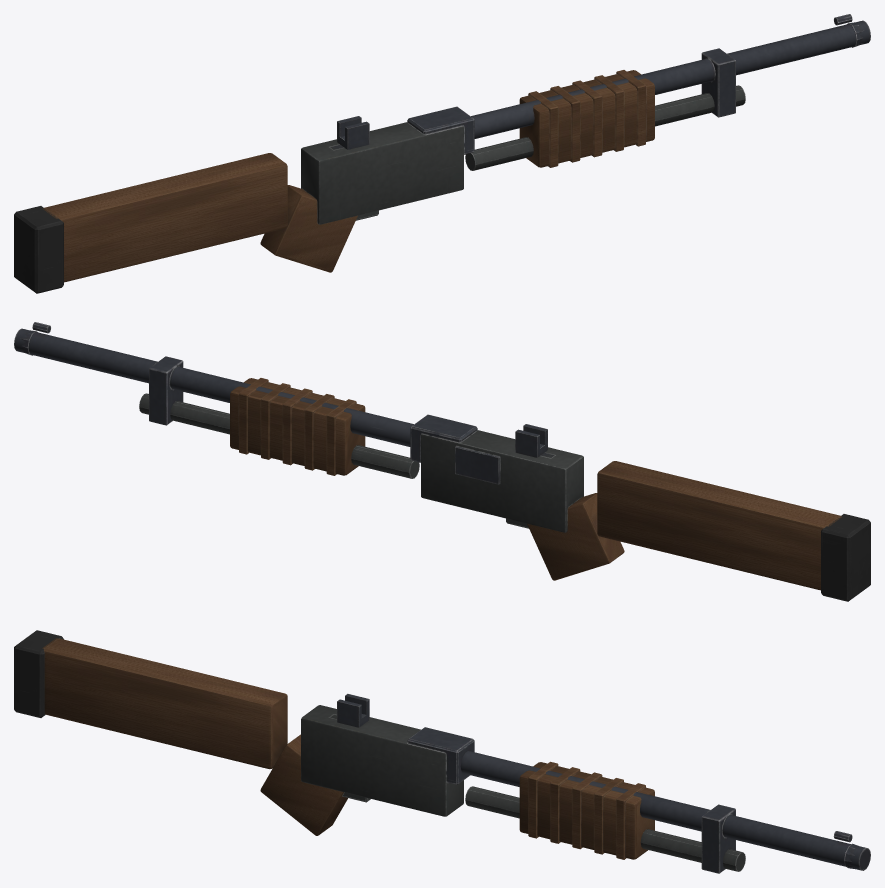
The model's file is weapon_shotgun.glb.
The picture shows the model from 3 angles, top to bottom: view 1: azimuth 30°, elevation 25°; view 2: azimuth 150°, elevation 25°; view 3: azimuth 330°, elevation 25°; orthographic projection.
Visible parts, largest first — view 1: Body, DefaultStock, DefaultBarrel, DefaultMag, IronSights; view 2: Body, DefaultStock, DefaultBarrel, DefaultMag, IronSights; view 3: Body, DefaultStock, DefaultBarrel, DefaultMag, IronSights.
Boxes of the visible parts, bbox=[...] form: Body: bbox=[260, 70, 654, 272]; DefaultStock: bbox=[14, 153, 287, 293]; DefaultBarrel: bbox=[471, 20, 870, 138]; DefaultMag: bbox=[465, 85, 745, 170]; IronSights: bbox=[337, 14, 852, 149]; Body: bbox=[230, 378, 624, 580]; DefaultStock: bbox=[597, 461, 870, 601]; DefaultBarrel: bbox=[14, 328, 413, 446]; DefaultMag: bbox=[139, 393, 419, 478]; IronSights: bbox=[32, 322, 547, 457]; Body: bbox=[260, 705, 654, 859]; DefaultStock: bbox=[14, 630, 287, 769]; DefaultBarrel: bbox=[460, 751, 870, 873]; DefaultMag: bbox=[465, 786, 745, 871]; IronSights: bbox=[337, 693, 852, 842].
Size of the model in its own units: 1.15 by 0.1803 by 0.055.
Materials: 1 (1 with a texture image).
